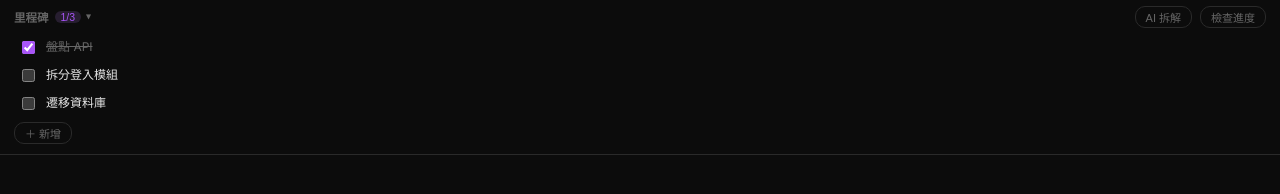
Scenario: MilestoneList – AI progress check › shows an error when the AI fails
Click the button "檢查進度" at (1233, 17), box left=1200, top=6, right=1266, bottom=28
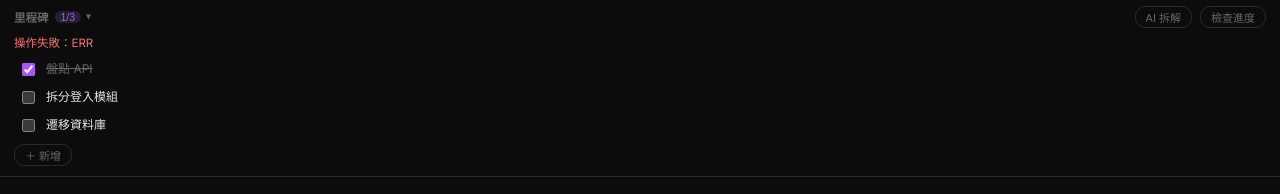
Now the message shows "操作失敗", box left=14, top=36, right=93, bottom=50
